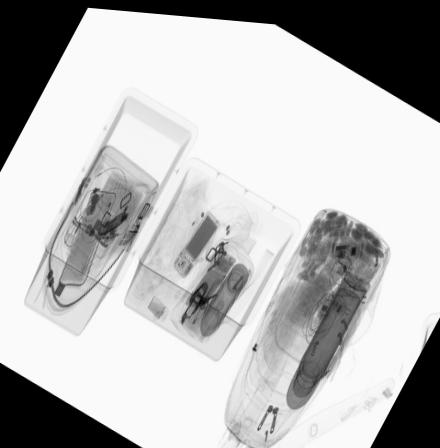Powerbank: (183, 245, 238, 310)
